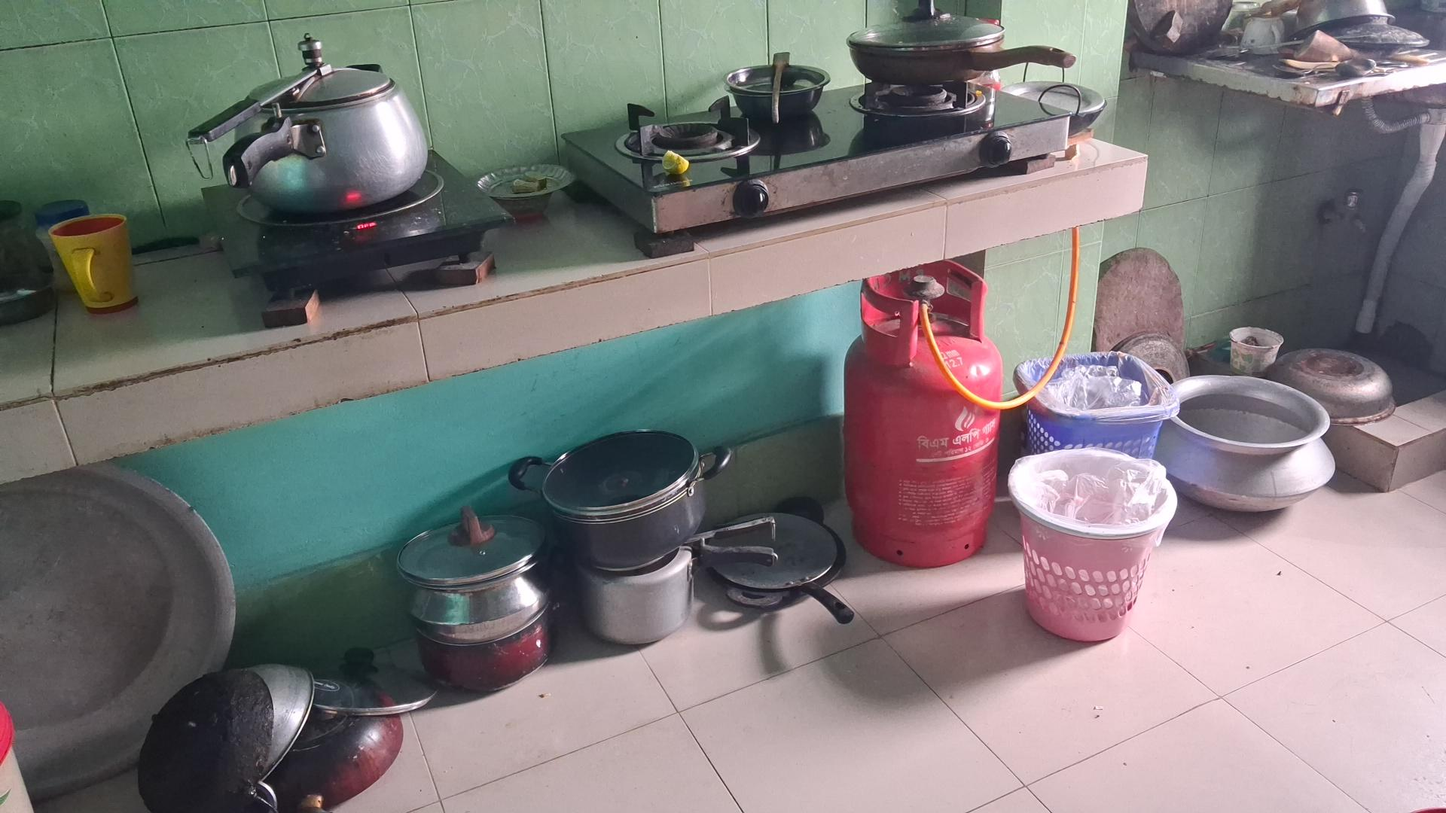Bowl: (722, 62, 829, 124)
Bucket: (1011, 459, 1176, 643), (1006, 361, 1178, 455)
Cooker: (193, 62, 442, 201)
Food: (511, 175, 545, 198), (662, 148, 690, 175)
Mug: (574, 548, 777, 638), (52, 223, 144, 315)
Pan: (846, 12, 1082, 86), (714, 510, 860, 622)
Plate: (471, 165, 580, 201)
Pot: (511, 438, 733, 559), (1183, 366, 1334, 514), (392, 519, 550, 636)
Spoon: (776, 41, 789, 136)
